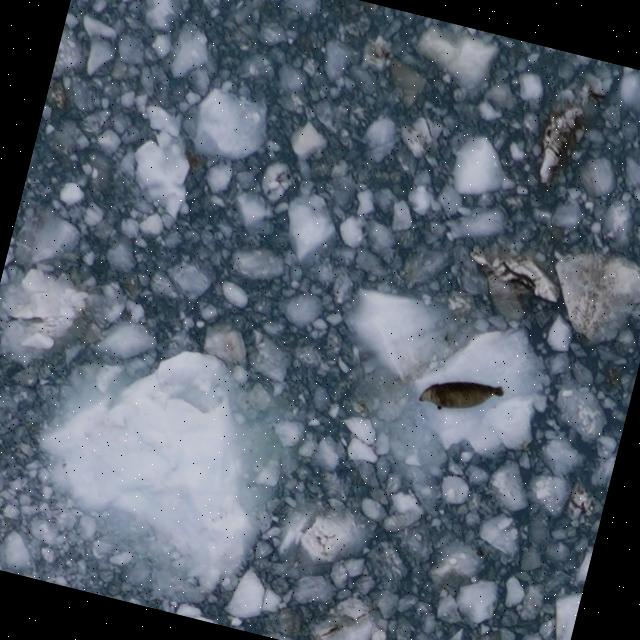seal: (414, 364, 507, 426)
